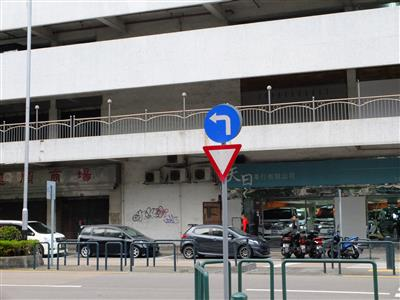leftTurnOnly: (203, 100, 241, 143)
yield: (200, 143, 242, 184)
